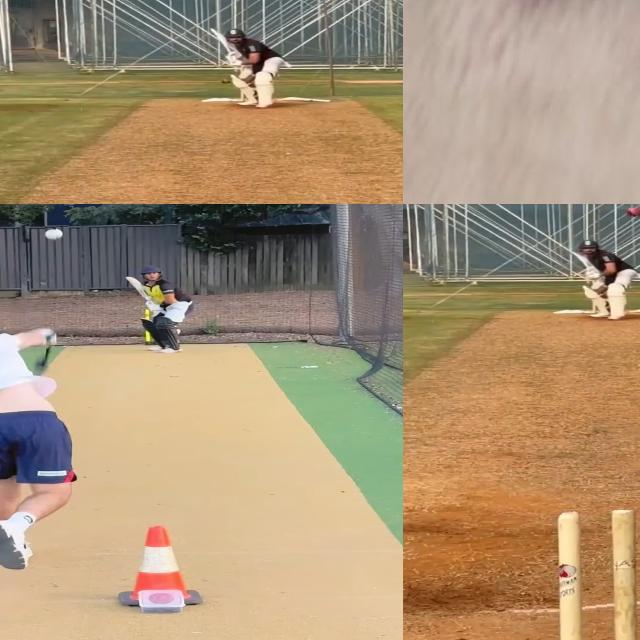Cricket ball: (39, 225, 69, 245), (625, 206, 640, 217), (222, 79, 231, 83)
Stumps: (556, 510, 640, 640)
